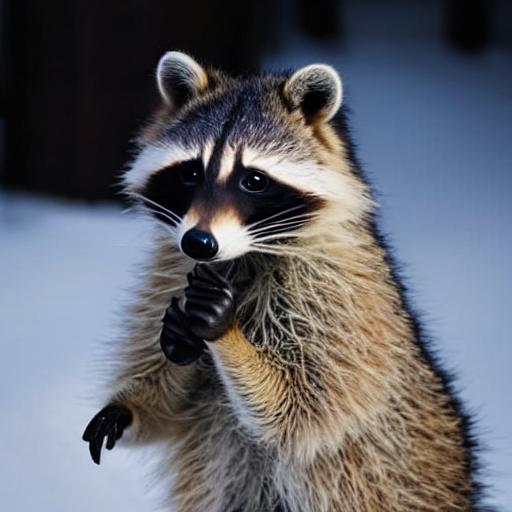raccoon: (117, 45, 496, 512)
